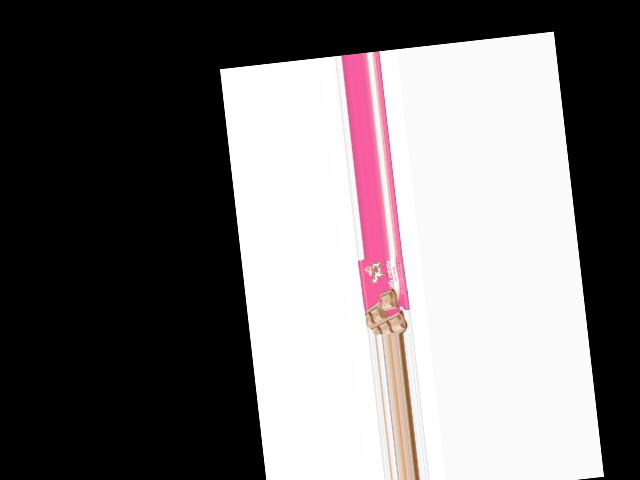chocolate: (359, 253, 413, 336)
